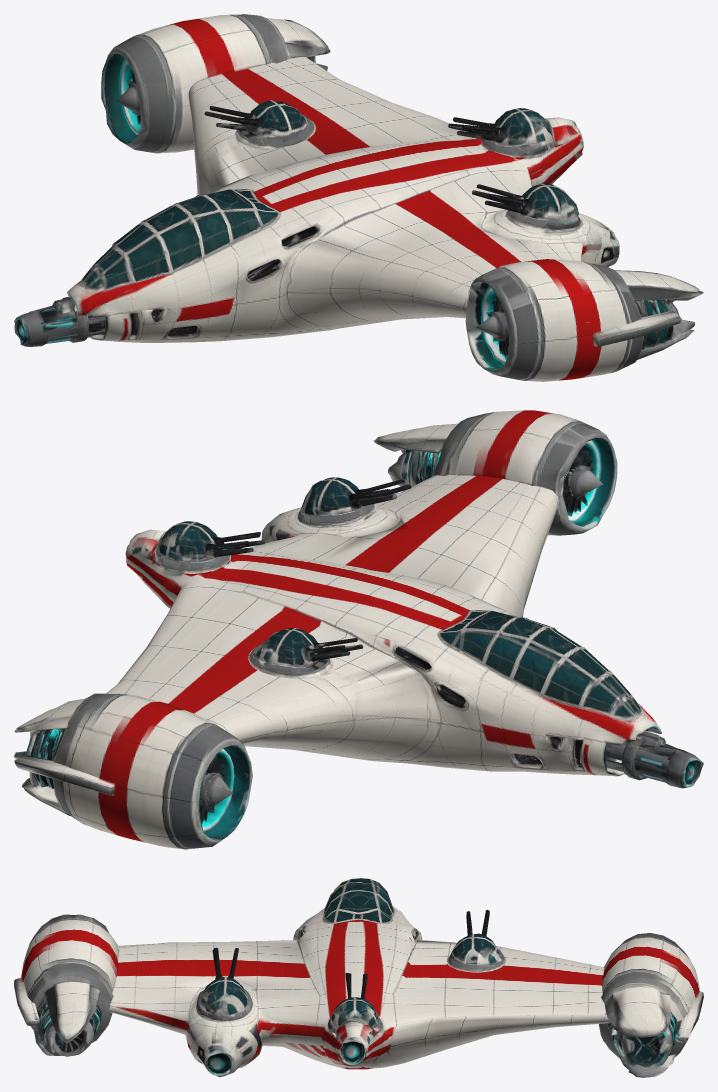
The model's file is bomber.fbx.
3 renders of one model, top to bottom at view 1: azimuth 30°, elevation 25°; view 2: azimuth 150°, elevation 25°; view 3: azimuth 270°, elevation 25°, orthographic. The views are drawn at different scales.
Visible parts, largest first — view 1: Mesh_0; view 2: Mesh_0; view 3: Mesh_0.
Part boxes in pixels (x1,y1,x2,y2): Mesh_0: (14, 14, 703, 381); Mesh_0: (14, 410, 703, 849); Mesh_0: (14, 878, 703, 1077).
Bounding box in the file's own units: 70.56 × 20.51 × 95.36.
Materials: 1 (1 with a texture image).
